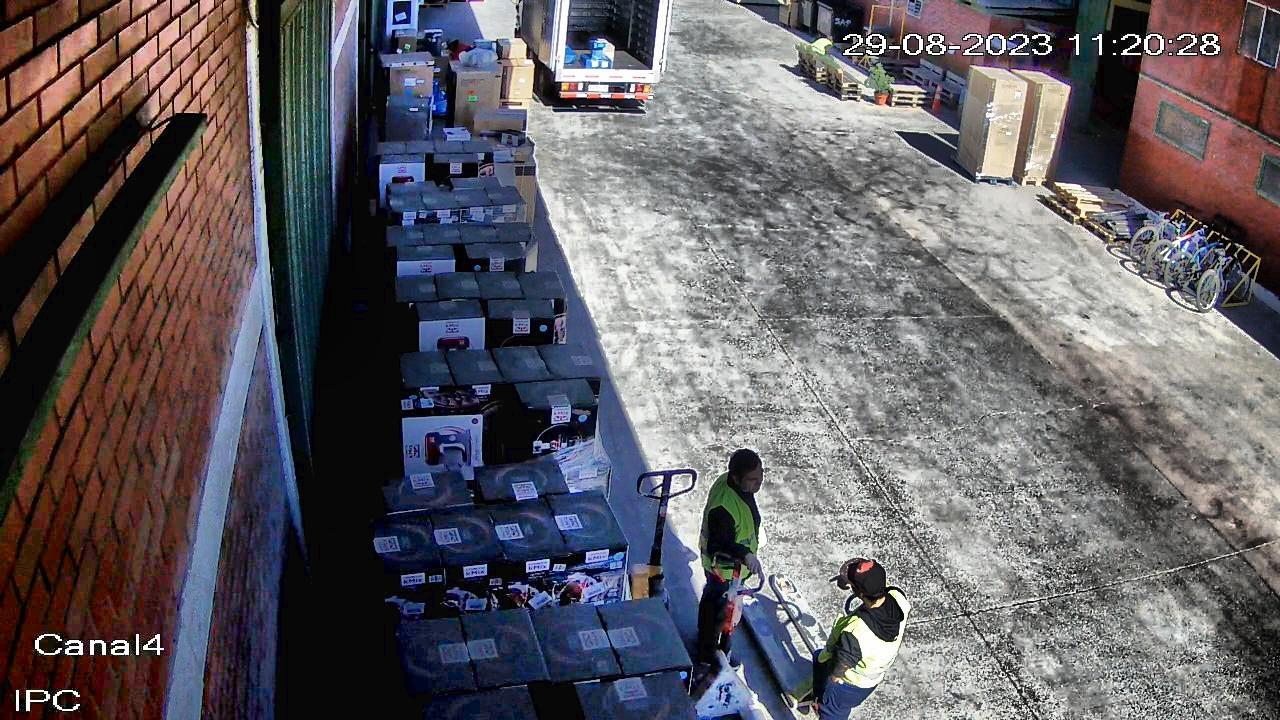con-chaleco: (808, 585, 914, 693), (693, 471, 772, 585), (805, 37, 834, 57)
persona: (678, 444, 780, 689), (787, 550, 922, 720), (802, 32, 837, 81)
sin-casco: (836, 551, 894, 607), (724, 445, 771, 498), (823, 32, 837, 44)
